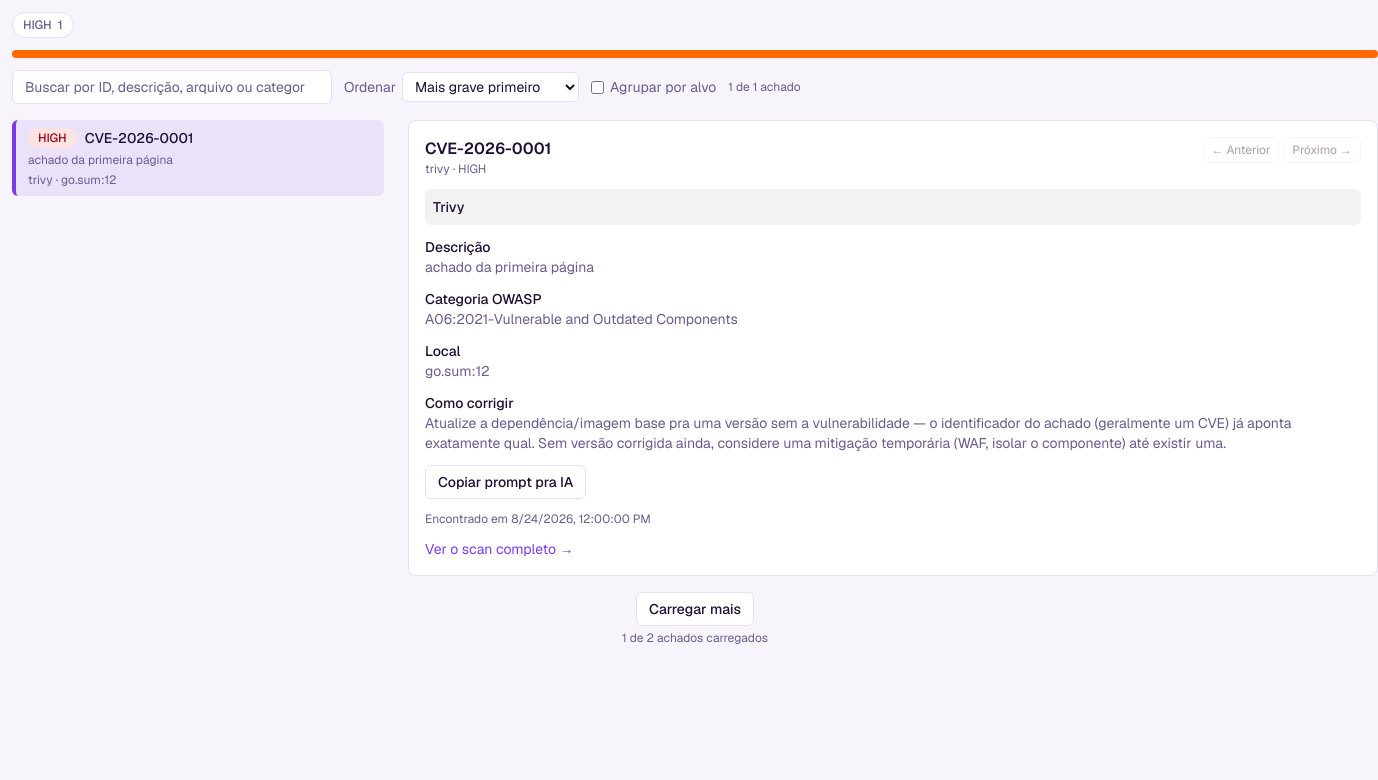
Scenario: PaginatedFindingsFeed › clicar em 'Carregar mais' busca a próxima página, acumula achados e some quando não há mais
Click the button "Carregar mais".
click(695, 609)  # box x1=636 y1=592 x2=754 y2=626
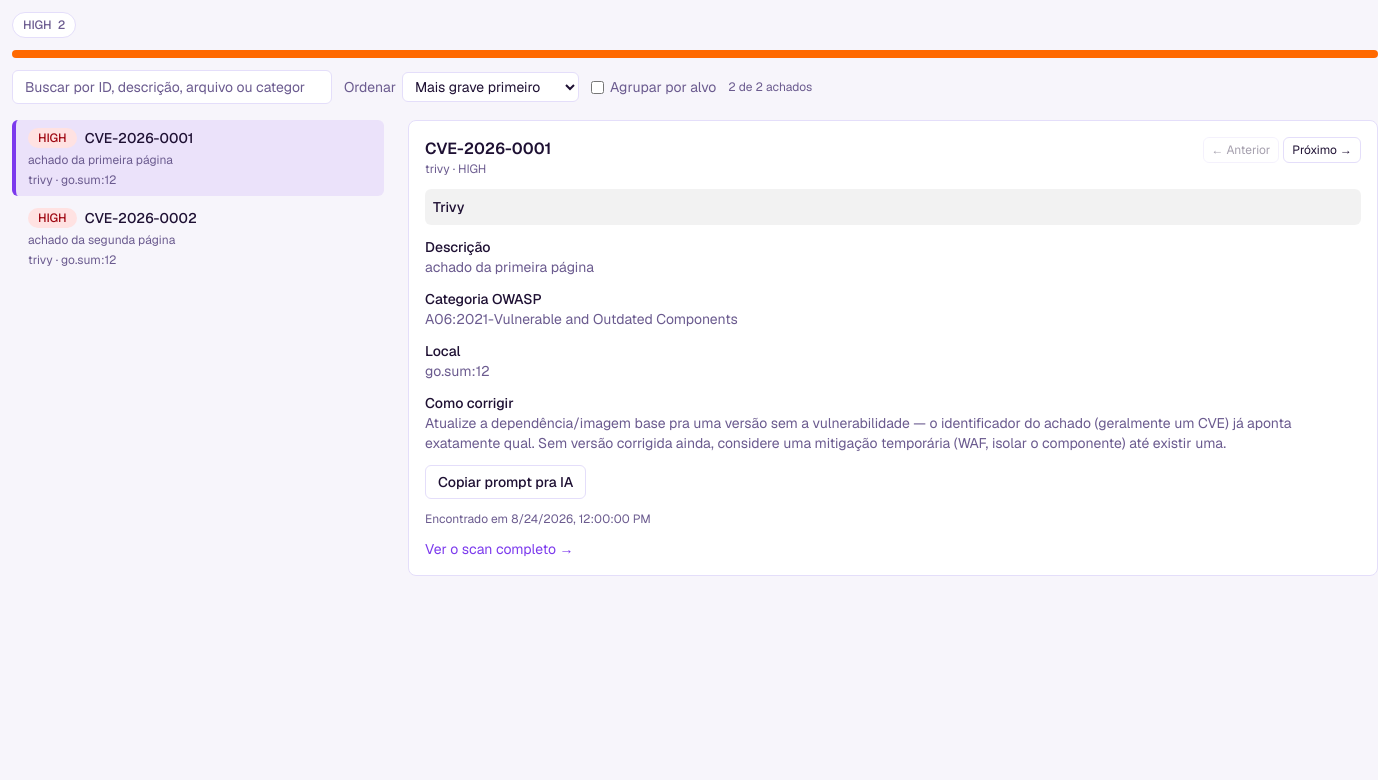
Expected: the text "achado da primeira página" below "Descrição" is shown, x1=425 y1=258 x2=594 y2=276
Now the option "CVE-2026-0002" is shown, box x1=28 y1=208 x2=197 y2=268
Now the button "Carregar mais" is gone
